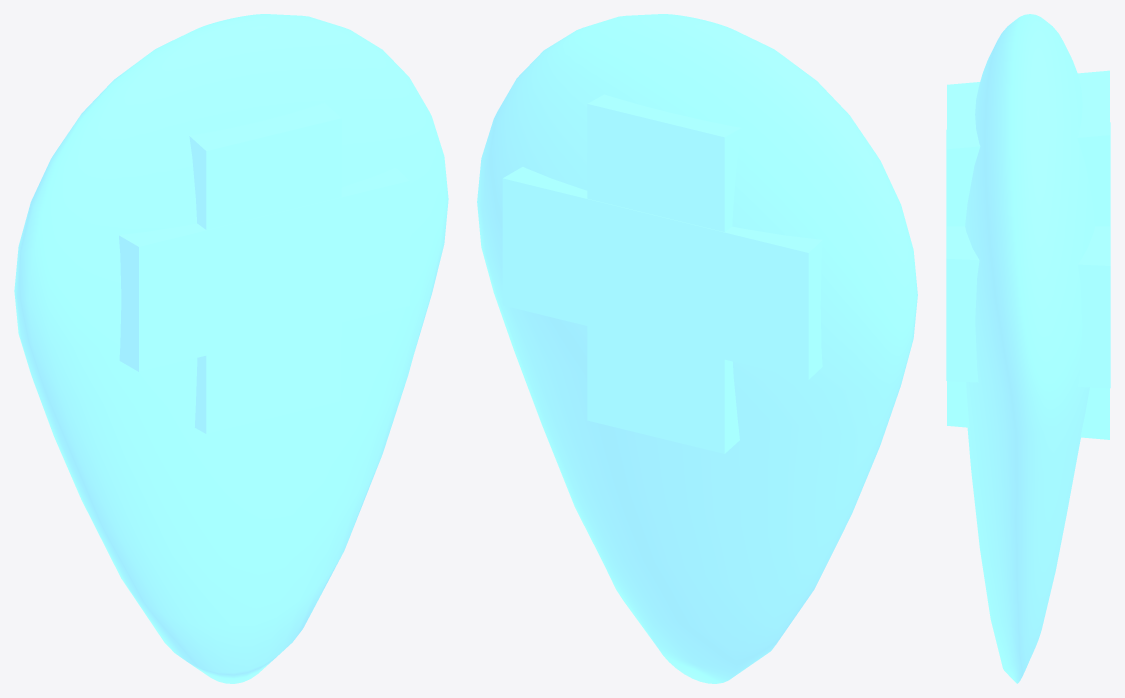
File: hospital.glb
The picture shows the model from 3 angles, left to right: view 1: azimuth 30°, elevation 25°; view 2: azimuth 150°, elevation 25°; view 3: azimuth 270°, elevation 25°; orthographic projection. The views are drawn at different scales.
Parts seen in each view (by area): view 1: hospital; view 2: hospital; view 3: hospital.
Part boxes in pixels (left/top/right/bottom): hospital: left=14, top=14, right=448, bottom=683; hospital: left=477, top=14, right=917, bottom=683; hospital: left=946, top=14, right=1110, bottom=683.
Size of the model in its own units: 2 by 2.93 by 0.6805.
